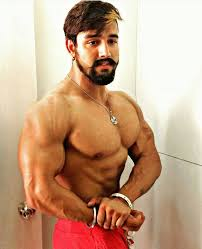Indian_Male: (73, 17, 125, 83)
